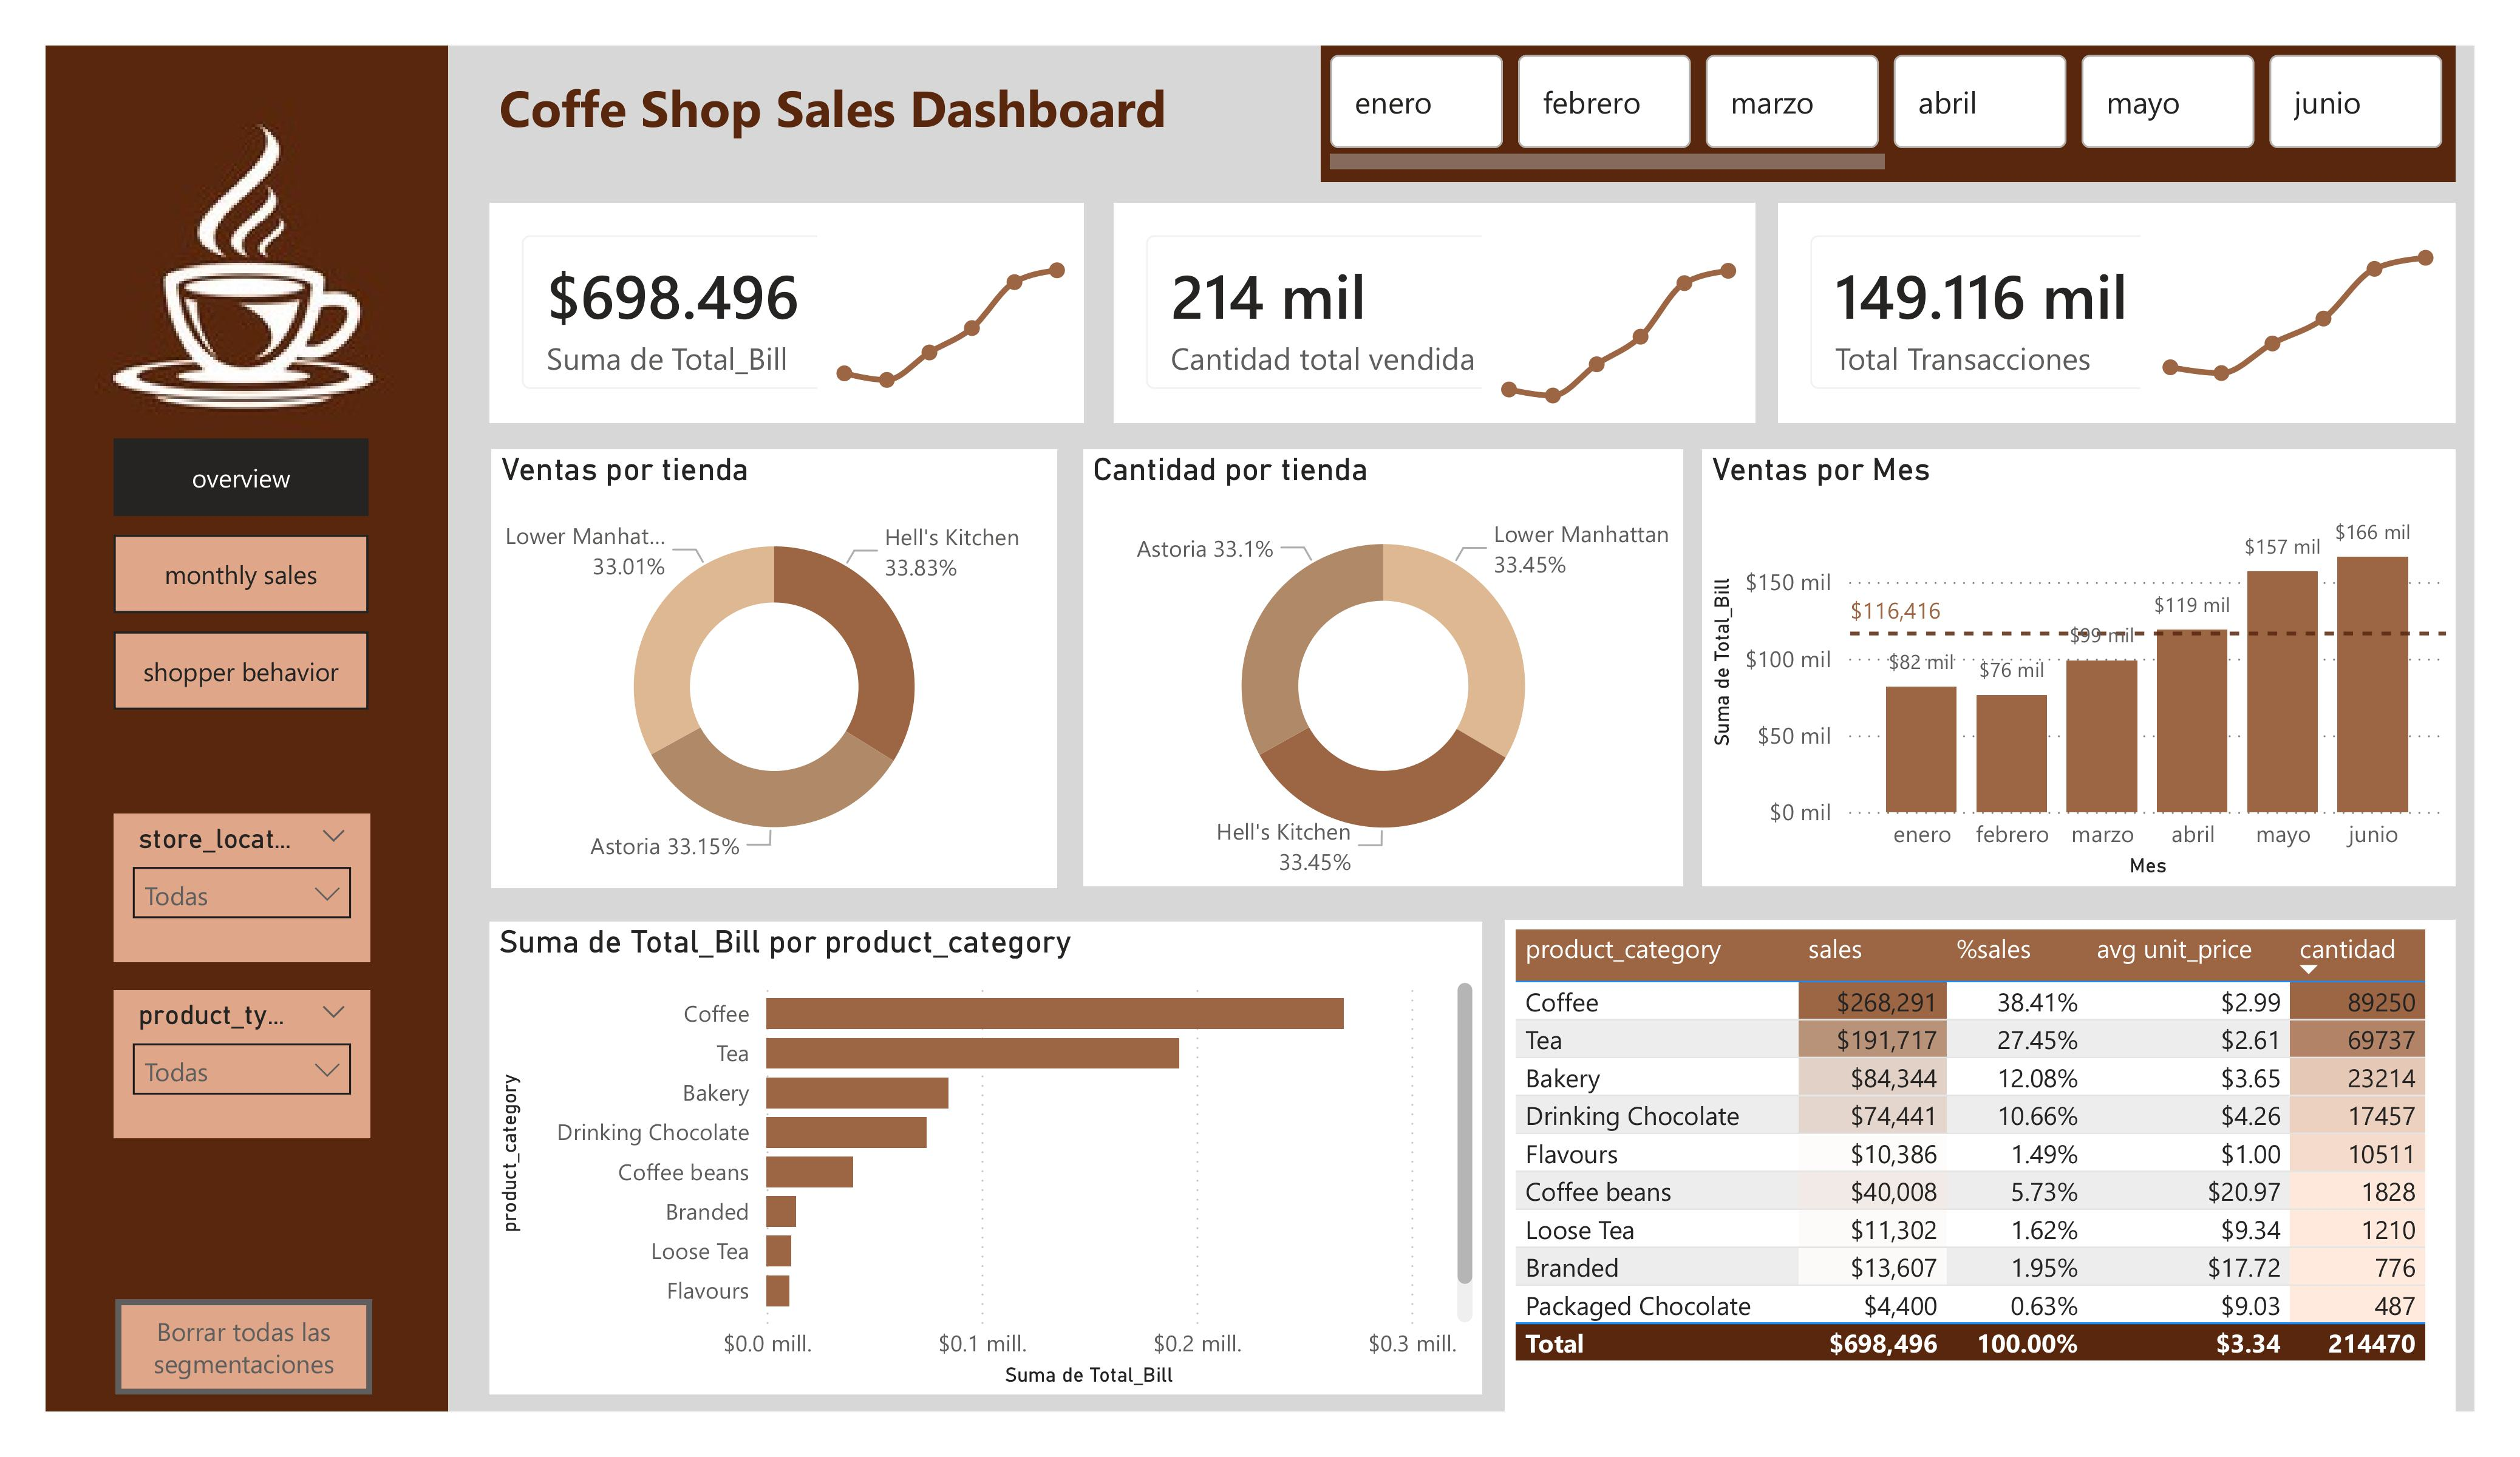

Layout of this report page (visuals, bound fields, positions):
{"tool":"powerbi","page":{"name":"overview","canvas":[1280,720],"ordinal":0},"visuals":[{"type":"shape","box":[0,0,212,720.5],"z":0},{"type":"cardVisual","fields":{"Data":["Count(coffee_shop_sales.transaction_id)"]},"box":[913.3,83.1,219.3,115.7],"z":1000},{"type":"cardVisual","fields":{"Data":["Sum(coffee_shop_sales.transaction_qty)"]},"box":[562.7,83.1,219.3,115.7],"z":2000},{"type":"donutChart","title":"Cantidad por tienda","fields":{"Y":["Sum(coffee_shop_sales.transaction_qty)"],"Category":["coffee_shop_sales.store_location"]},"box":[546.9,212.5,315.6,230.2],"z":3000},{"type":"donutChart","title":"Ventas por tienda","fields":{"Y":["Sum(coffee_shop_sales.Total_Bill)"],"Category":["coffee_shop_sales.store_location"]},"box":[235.1,213.1,298.3,230.7],"z":4000},{"type":"cardVisual","fields":{"Data":["Sum(coffee_shop_sales.Total_Bill)"]},"box":[233.7,83.1,248.2,115.7],"z":5000},{"type":"advancedSlicerVisual","fields":{"Values":["coffee_shop_sales.transaction_date.Variación.Jerarquía de fechas.Mes"]},"box":[672.3,0,597.6,72.3],"z":6000},{"type":"pageNavigator","box":[36.1,207.2,134.9,145.8],"z":7000},{"type":"slicer","fields":{"Values":["coffee_shop_sales.store_location"]},"box":[36.1,404.8,134.9,78.3],"z":8000},{"type":"slicer","fields":{"Values":["coffee_shop_sales.product_type"]},"box":[36.1,497.6,134.9,78.3],"z":9000},{"type":"actionButton","box":[36.7,661.2,135.2,50],"z":10000},{"type":"textbox","box":[233.6,8.8,407,48.5],"z":11000},{"type":"clusteredColumnChart","title":"Ventas por Mes","fields":{"Category":["coffee_shop_sales.transaction_date.Variación.Jerarquía de fechas.Mes"],"Y":["Sum(coffee_shop_sales.Total_Bill)"]},"box":[872.9,212.5,396.9,230.2],"z":12000},{"type":"clusteredBarChart","fields":{"Category":["coffee_shop_sales.product_category"],"Y":["Sum(coffee_shop_sales.Total_Bill)"]},"box":[234.2,462,522.8,249.4],"z":13000},{"type":"tableEx","fields":{"Values":["coffee_shop_sales.product_category","Sum(coffee_shop_sales.Total_Bill)","Divide(Sum(coffee_shop_sales.Total_Bill), ScopedEval(Sum(coffee_shop_sales.Total_Bill), []))","Avg(coffee_shop_sales.unit_price)","Sum(coffee_shop_sales.transaction_qty)"]},"box":[768.7,461.4,501.2,259],"z":14000},{"type":"image","box":[24.1,28.9,162.7,178.3],"z":15000},{"type":"lineChart","title":"Ventas por Mes","fields":{"Category":["coffee_shop_sales.transaction_date.Variación.Jerarquía de fechas.Mes"],"Y":["Sum(coffee_shop_sales.Total_Bill)"]},"box":[407.2,83.1,139.8,115.7],"z":16000},{"type":"lineChart","title":"Ventas por Mes","fields":{"Category":["coffee_shop_sales.transaction_date.Variación.Jerarquía de fechas.Mes"],"Y":["Sum(coffee_shop_sales.transaction_qty)"]},"box":[756.6,83.1,144.6,115.7],"z":17000},{"type":"lineChart","title":"Ventas por Mes","fields":{"Category":["coffee_shop_sales.transaction_date.Variación.Jerarquía de fechas.Mes"],"Y":["CountNonNull(coffee_shop_sales.transaction_id)"]},"box":[1103.6,83.1,166.3,115.7],"z":18000}]}

Visuals, with their boxes on the page's 1280x720 design canvas (x1, y1, x2, y2). These are canvas units, not pixel positions in the 2520x1457 screenshot, which may show the page scaled, cropped or inside an application window:
shape: 0,0,212,720
cardVisual - Count(coffee_shop_sales.transaction_id): 913,83,1133,199
cardVisual - Sum(coffee_shop_sales.transaction_qty): 563,83,782,199
"Cantidad por tienda" donutChart: 547,212,862,443
"Ventas por tienda" donutChart: 235,213,533,444
cardVisual - Sum(coffee_shop_sales.Total_Bill): 234,83,482,199
advancedSlicerVisual - coffee_shop_sales.transaction_date.Variación.Jerarquía de fechas.Mes: 672,0,1270,72
pageNavigator: 36,207,171,353
slicer - coffee_shop_sales.store_location: 36,405,171,483
slicer - coffee_shop_sales.product_type: 36,498,171,576
actionButton: 37,661,172,711
textbox: 234,9,641,57
"Ventas por Mes" clusteredColumnChart: 873,212,1270,443
clusteredBarChart - coffee_shop_sales.product_category x Sum(coffee_shop_sales.Total_Bill): 234,462,757,711
tableEx - coffee_shop_sales.product_category x Sum(coffee_shop_sales.Total_Bill): 769,461,1270,720
image: 24,29,187,207
"Ventas por Mes" lineChart: 407,83,547,199
"Ventas por Mes" lineChart: 757,83,901,199
"Ventas por Mes" lineChart: 1104,83,1270,199
